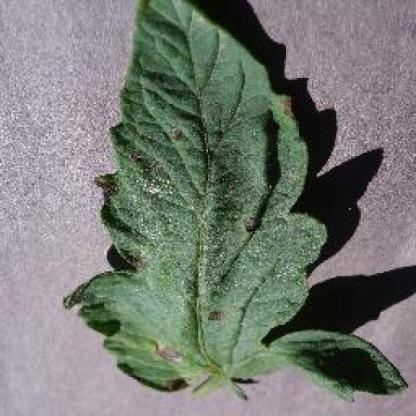Tomato_Blight: (65, 0, 406, 388)
